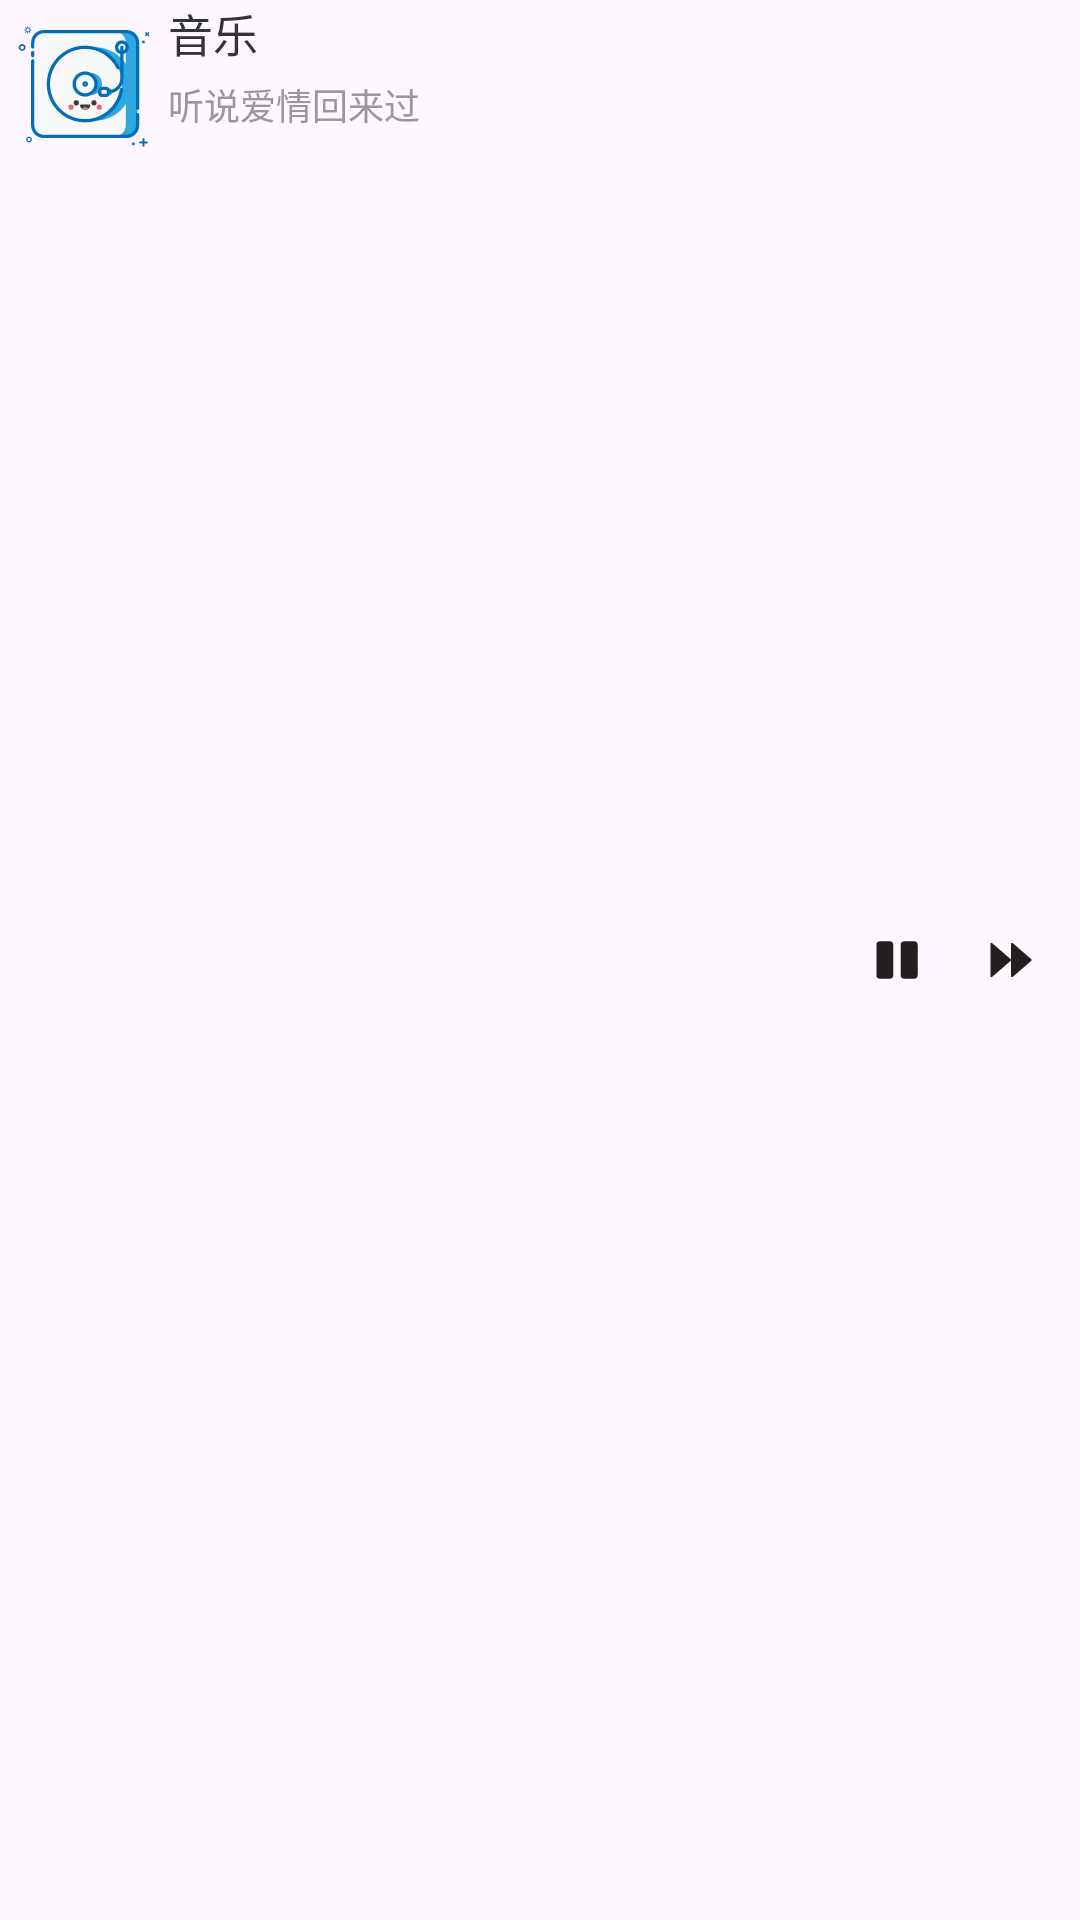

Named icons in this screenshot (1080*1920) and their centers, point (x, y):
next: point (1011, 960)
pause: point (897, 960)
